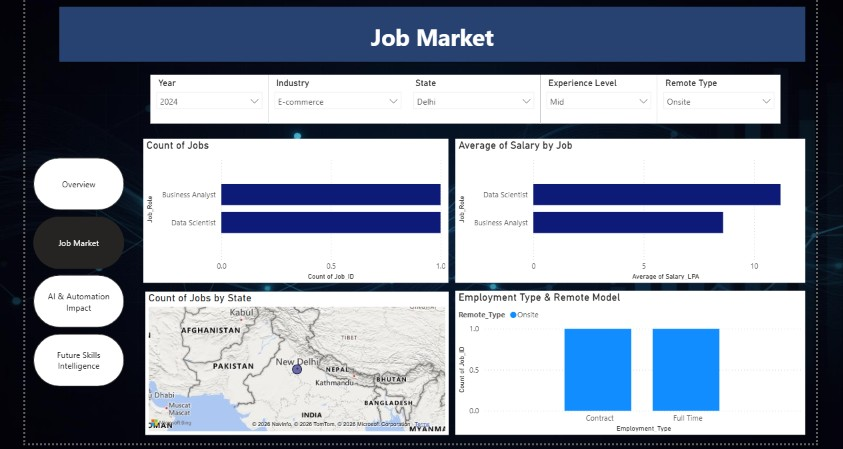

The page's visual inventory and layout, read from the dashboard file:
{"tool":"powerbi","page":{"name":"Job Market","canvas":[1280,720],"ordinal":1},"visuals":[{"type":"pageNavigator","box":[13,257.5,147.3,372.4],"z":0},{"type":"textbox","box":[55.1,13,1207.9,89.1],"z":1000},{"type":"slicer","fields":{"Values":["AI_Jobs.Year"]},"box":[202.4,123.1,191.1,79.3],"z":2000},{"type":"slicer","fields":{"Values":["AI_Jobs.Industry"]},"box":[393.5,123.1,225.1,79.3],"z":3000},{"type":"slicer","fields":{"Values":["AI_Jobs.State"]},"box":[618.5,123.1,215.4,79.3],"z":4000},{"type":"slicer","fields":{"Values":["AI_Jobs.Experience_Level"]},"box":[833.9,123.1,189.4,79.3],"z":5000},{"type":"slicer","fields":{"Values":["AI_Jobs.Remote_Type"]},"box":[1023.4,123.1,199.2,79.3],"z":6000},{"type":"clusteredBarChart","title":"Count of Jobs","fields":{"Category":["AI_Jobs.Job_Role"],"Y":["CountNonNull(AI_Jobs.Job_ID)"]},"box":[191.1,226.7,493.9,233.2],"z":7000},{"type":"clusteredBarChart","title":"Average of Salary  by Job","fields":{"Category":["AI_Jobs.Job_Role"],"Y":["Avg(AI_Jobs.Salary_LPA)"]},"box":[696.3,226.7,566.7,233.2],"z":8000},{"type":"map","title":"Count of Jobs by State","fields":{"Category":["AI_Jobs.State"],"Size":["CountNonNull(AI_Jobs.Job_ID)"]},"box":[194.3,474.4,490.6,231.5],"z":9000},{"type":"clusteredColumnChart","title":"Employment Type & Remote Model","fields":{"Category":["AI_Jobs.Employment_Type"],"Y":["CountNonNull(AI_Jobs.Job_ID)"],"Series":["AI_Jobs.Remote_Type"]},"box":[696.3,472.8,566.7,233.2],"z":10000}]}

Visuals, with their boxes in screenshot pixels (x1, y1, x2, y2):
pageNavigator: (32,157,123,386)
textbox: (58,6,803,61)
slicer - AI_Jobs.Year: (149,74,267,123)
slicer - AI_Jobs.Industry: (267,74,405,123)
slicer - AI_Jobs.State: (405,74,538,123)
slicer - AI_Jobs.Experience_Level: (538,74,655,123)
slicer - AI_Jobs.Remote_Type: (655,74,778,123)
"Count of Jobs" clusteredBarChart: (142,138,446,281)
"Average of Salary  by Job" clusteredBarChart: (453,138,803,281)
"Count of Jobs by State" map: (144,290,446,433)
"Employment Type & Remote Model" clusteredColumnChart: (453,289,803,433)
